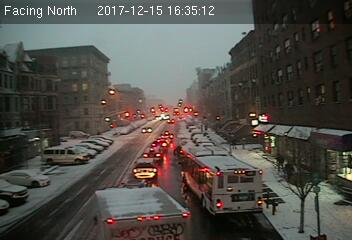bus: (181, 146, 264, 218)
car: (133, 158, 158, 180), (142, 146, 162, 159)
truck: (94, 186, 186, 240)
